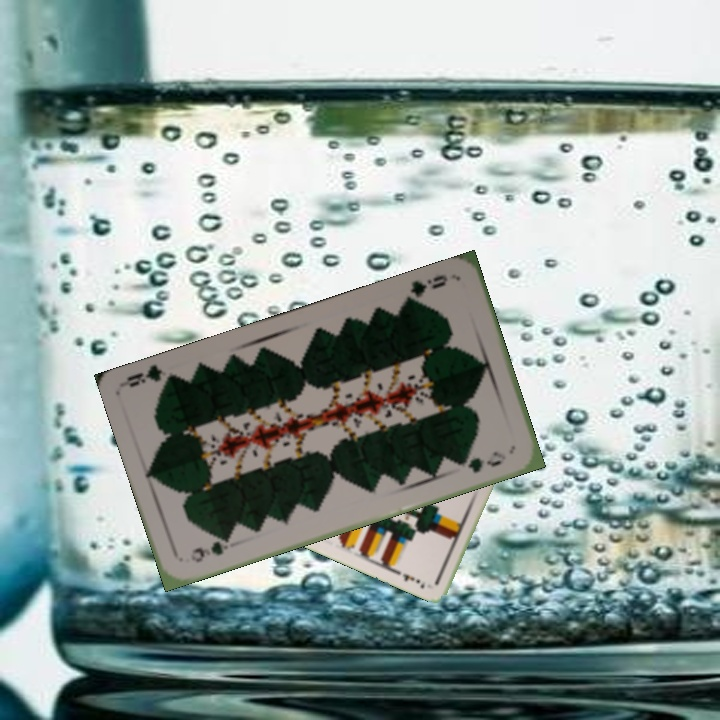G9: (401, 270, 450, 308), (186, 533, 234, 565)
